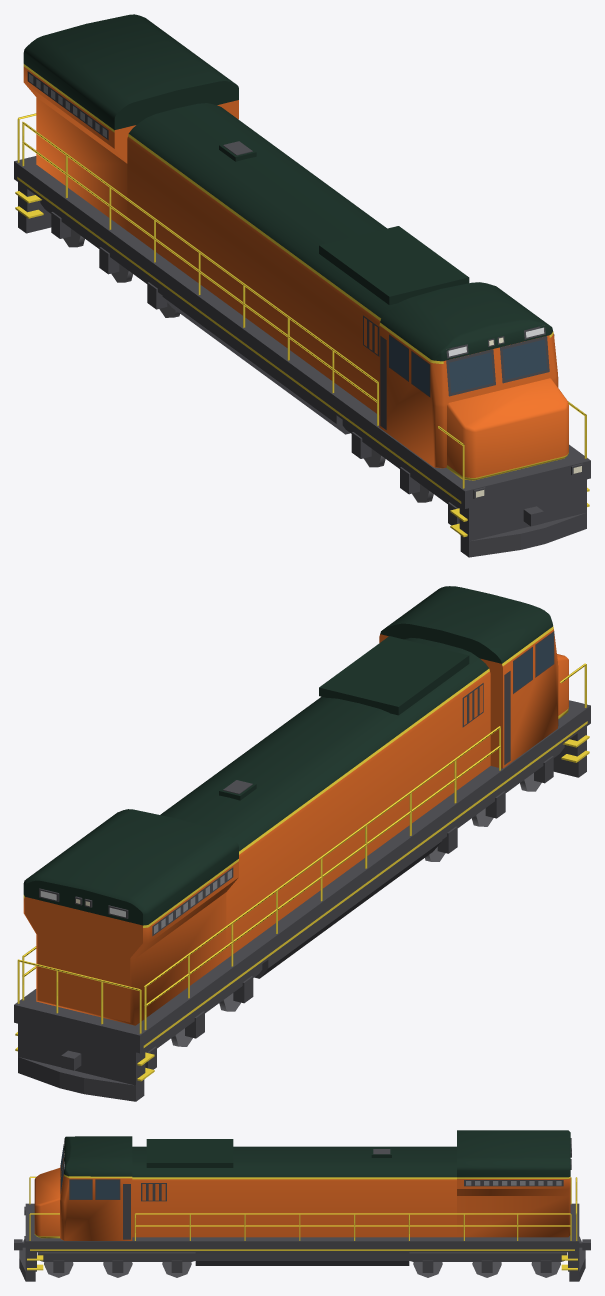
3 views of the same model, one above another, from view 1: azimuth 30°, elevation 25°; view 2: azimuth 150°, elevation 25°; view 3: azimuth 270°, elevation 25° (orthographic). The views are drawn at different scales.
Visible parts, largest first — view 1: 22_1; view 2: 22_1; view 3: 22_1.
Part boxes in pixels (x1=…): 22_1: x1=14, y1=14, x2=590, y2=557; 22_1: x1=14, y1=586, x2=590, y2=1101; 22_1: x1=14, y1=1130, x2=590, y2=1281.
Bounding box in the file's own units: 3.11 × 4.74 × 20.
